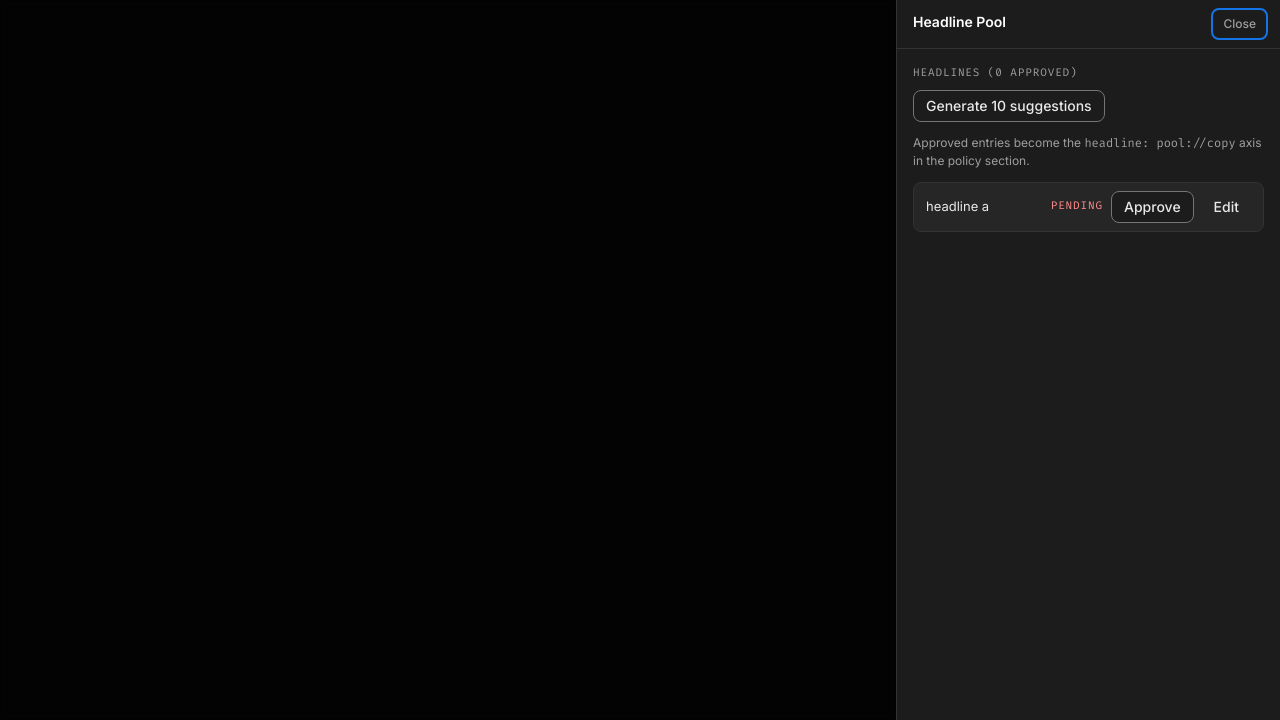
Test: HeadlinePoolDrawer › cancelling an edit restores the original text
Expected: the text "headline a" is shown, [926,198,989,214]
Click the button with aria-label "Edit a": point(1226, 206) [1202,190,1251,222]
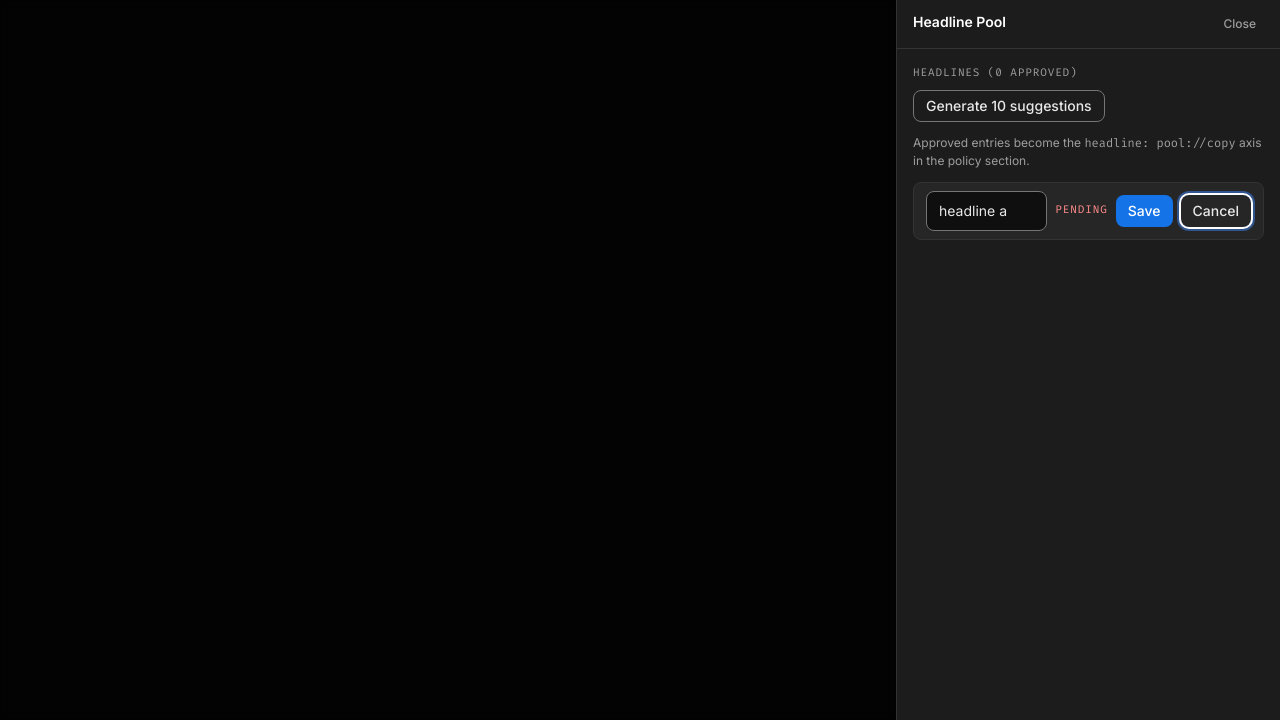
In the field named "Edit a": point(987, 210) [926,190,1047,230], type "!!!"
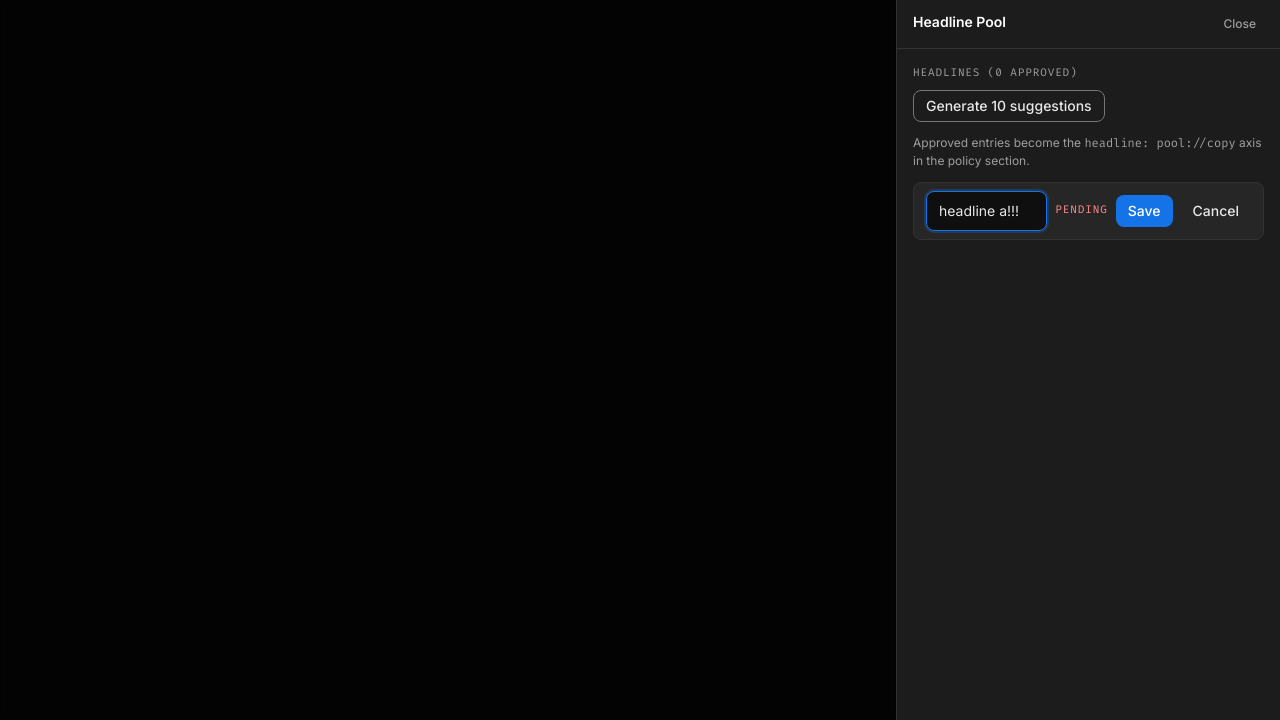
Click the button with aria-label "Cancel a": point(1216, 210) [1180,194,1251,226]
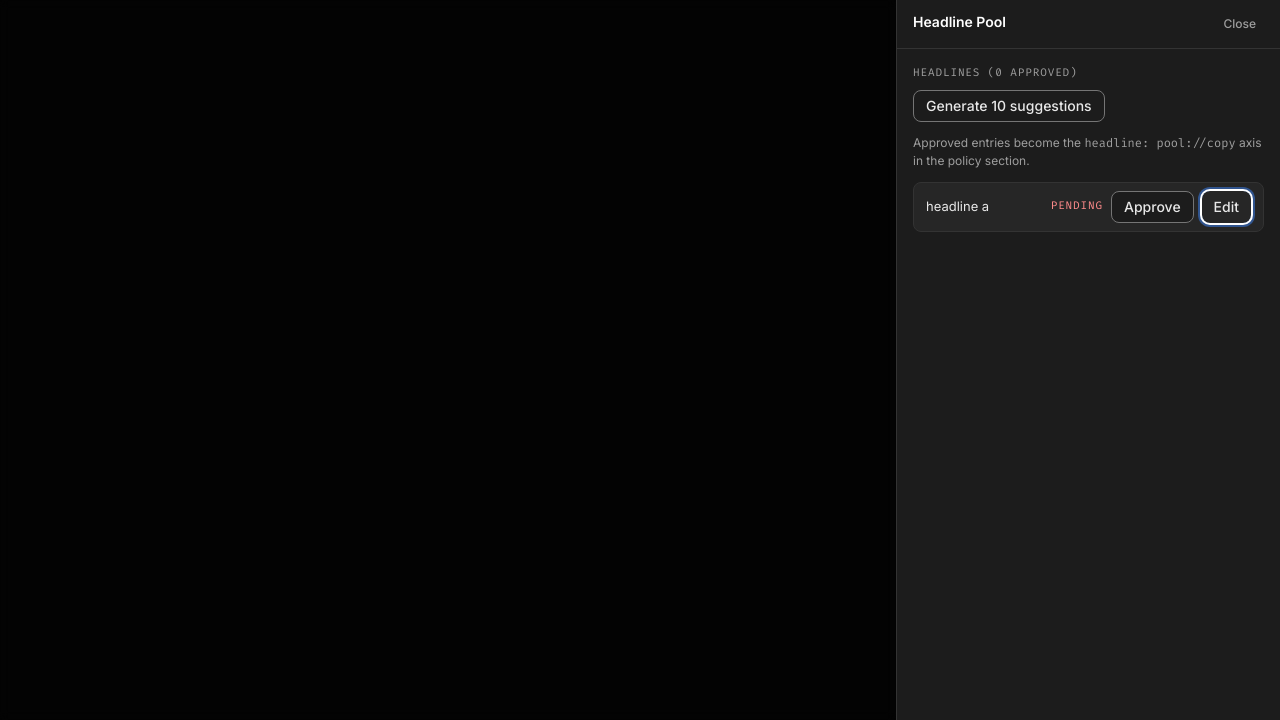
Expected: the text "headline a" is shown, [926,198,989,214]
